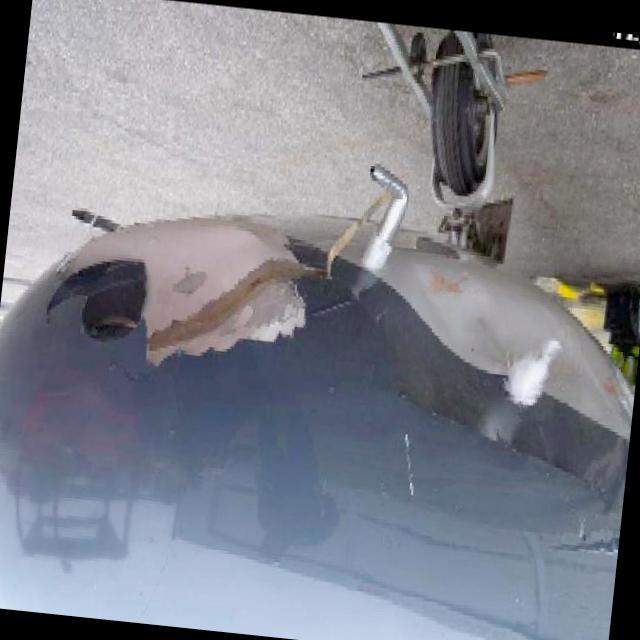crack: (48, 259, 147, 345), (100, 353, 153, 388)
dent: (384, 259, 635, 513), (403, 260, 517, 362)
